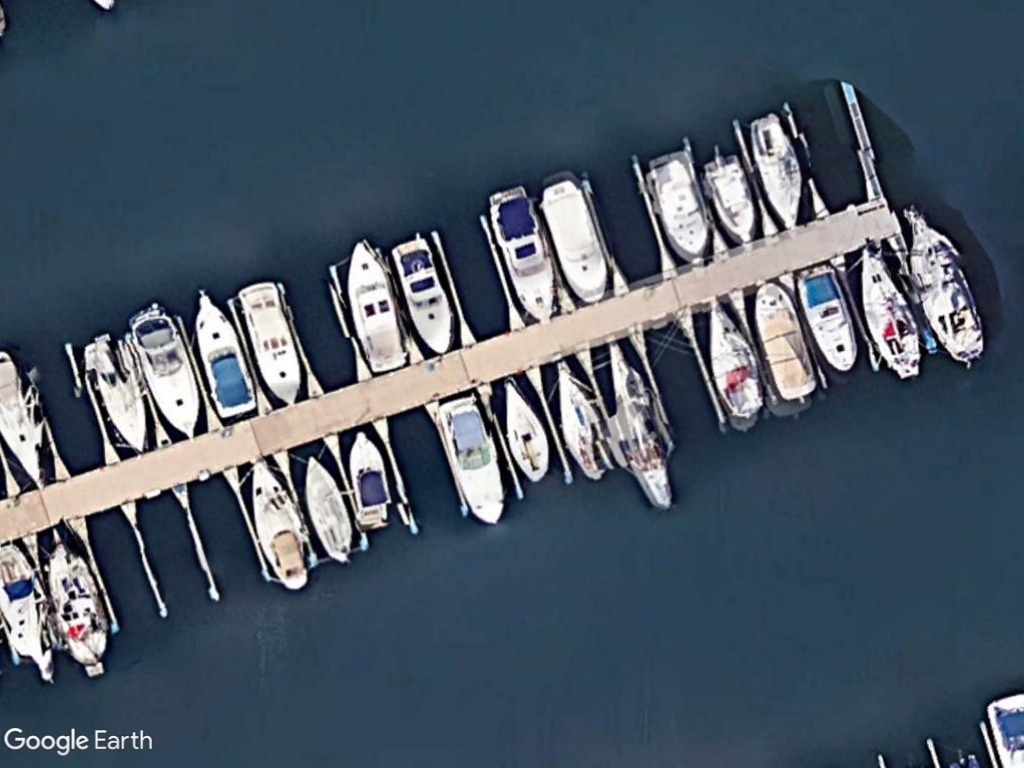boat: (903, 205, 993, 367), (124, 302, 204, 444), (536, 173, 614, 309), (485, 187, 559, 326), (186, 289, 261, 424), (858, 244, 929, 383), (437, 394, 511, 527), (46, 526, 115, 667), (346, 238, 412, 376), (248, 457, 313, 593), (551, 355, 618, 486), (235, 279, 303, 407), (388, 235, 457, 359), (753, 277, 821, 401), (86, 332, 153, 457), (792, 260, 863, 377), (645, 149, 713, 267), (704, 294, 766, 421), (750, 113, 809, 231), (303, 451, 358, 566), (500, 376, 554, 488), (344, 427, 398, 535), (701, 151, 758, 248)
